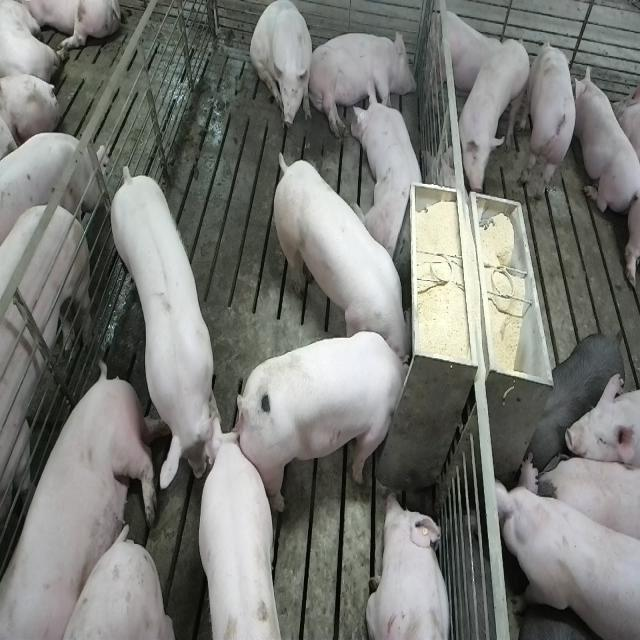Feeding: (235, 328, 413, 513), (272, 143, 417, 360)
Lateral_lying: (3, 350, 167, 640), (311, 28, 418, 136)
Sitting: (247, 0, 315, 127)
Standing: (109, 157, 219, 489), (0, 194, 96, 519), (494, 455, 640, 632), (192, 410, 287, 639), (525, 320, 628, 470), (457, 37, 531, 202), (525, 33, 577, 212), (564, 371, 640, 472)
Sternal_lying: (364, 489, 454, 640), (351, 76, 424, 259), (570, 58, 640, 215), (432, 6, 506, 98)
